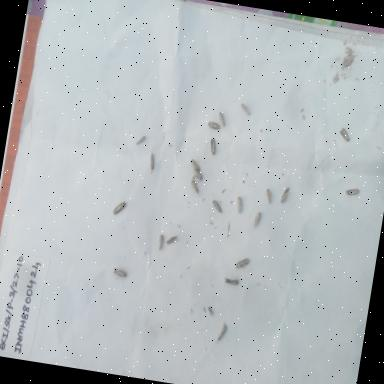pbw: (232, 252, 254, 274), (213, 320, 229, 346), (110, 197, 128, 220), (207, 197, 226, 214), (278, 186, 294, 206), (153, 230, 166, 254), (221, 274, 242, 288), (337, 126, 352, 144), (146, 152, 157, 176), (164, 232, 180, 248), (188, 179, 202, 197), (110, 265, 128, 279), (206, 136, 218, 156), (217, 108, 229, 128), (250, 211, 262, 231), (343, 184, 360, 198), (233, 194, 244, 214), (264, 186, 276, 204), (238, 101, 252, 116), (188, 157, 202, 171), (206, 119, 221, 132), (134, 134, 146, 148), (192, 167, 204, 180), (206, 305, 215, 318)
